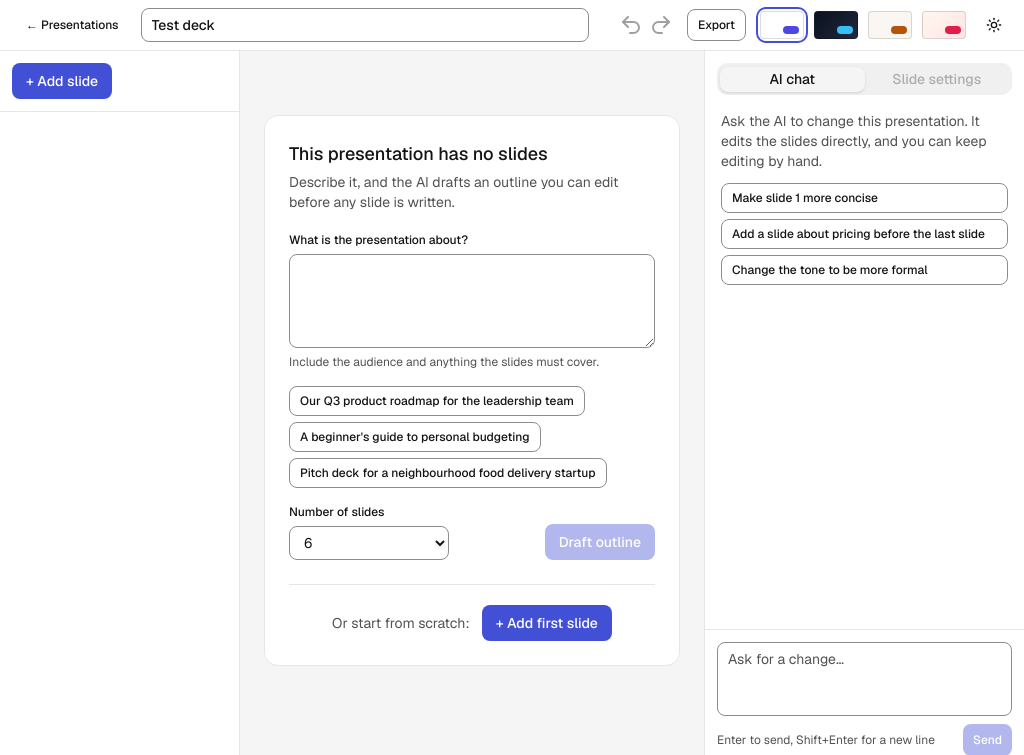
Test: DeckEditor › adds the first slide to an empty presentation and edits its title
Expected: the heading "This presentation has no slides" is shown, [289,142,548,165]
Click the button "+ Add first slide". click: (547, 623)
box: [482,605,612,641]
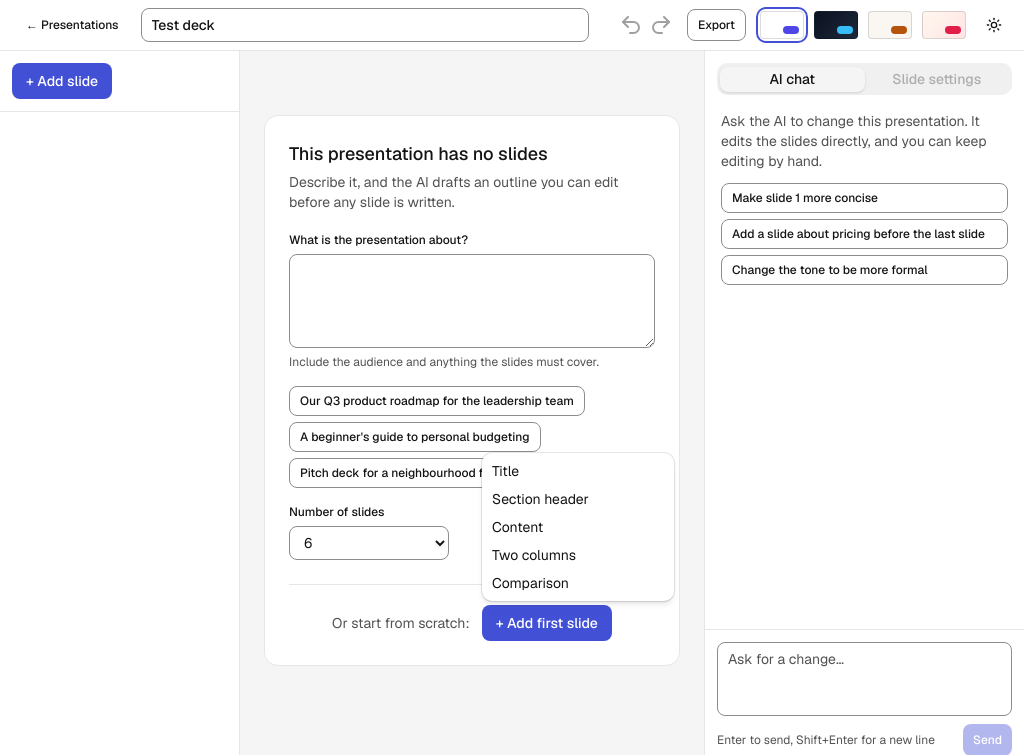
Click the menu item "Content". click: (518, 527)
box: [492,518,543,536]
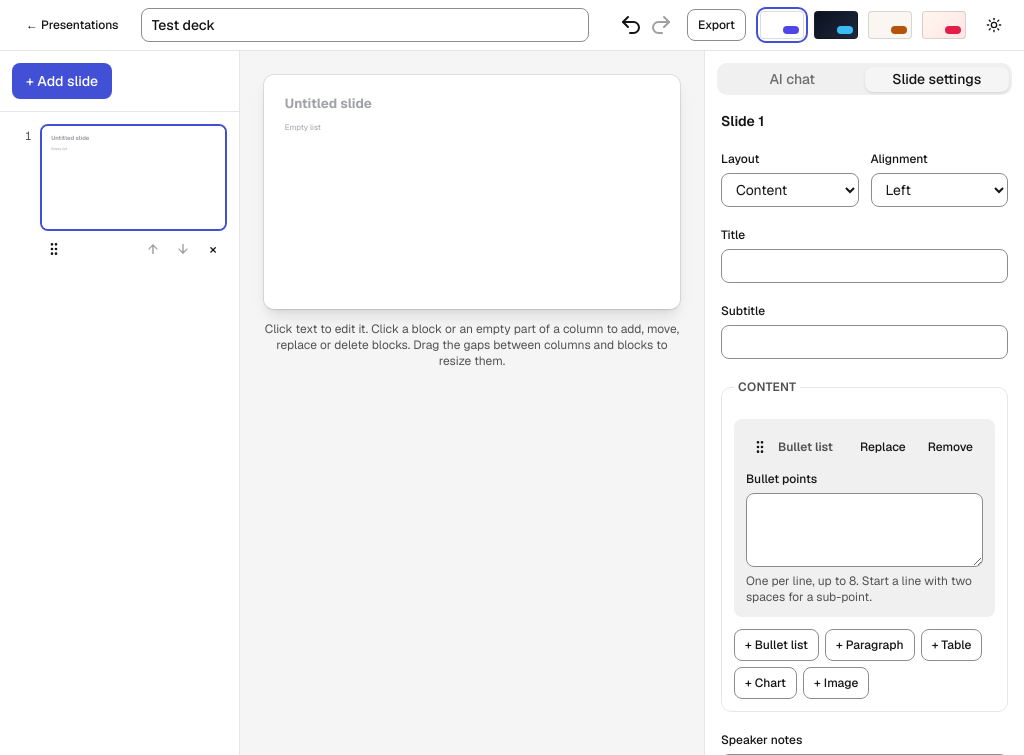
Type "Pricing" into the field labelled "Title". click: (864, 266)
box: [721,249,1008,283]
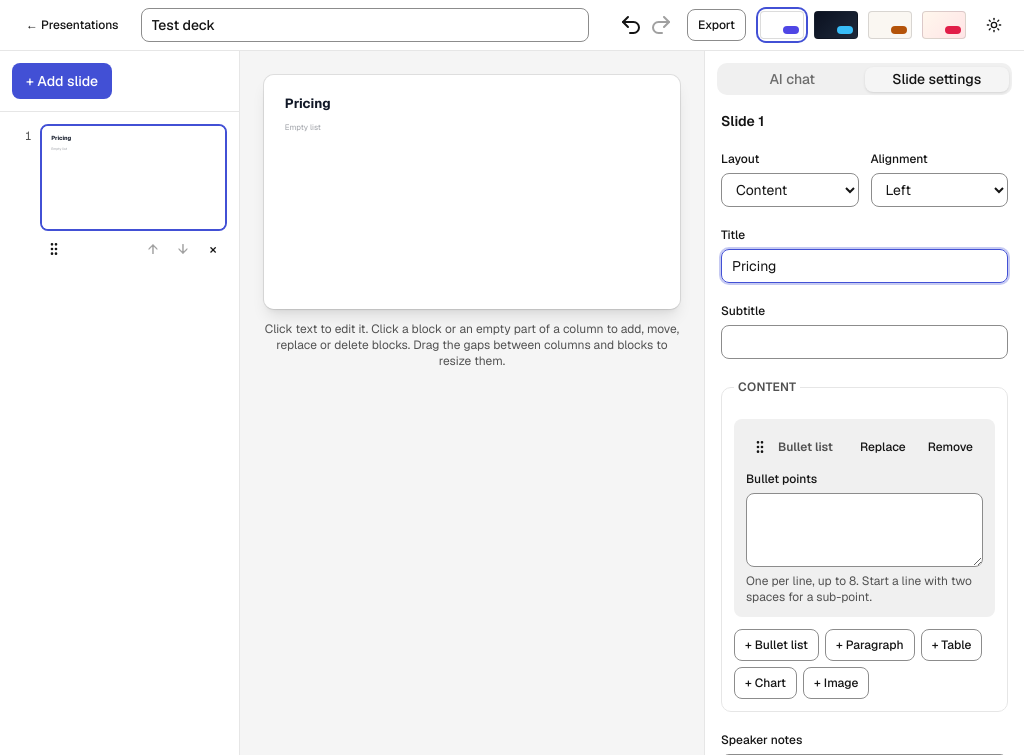
Result: the heading "Pricing" is shown at [285,95,331,112]
